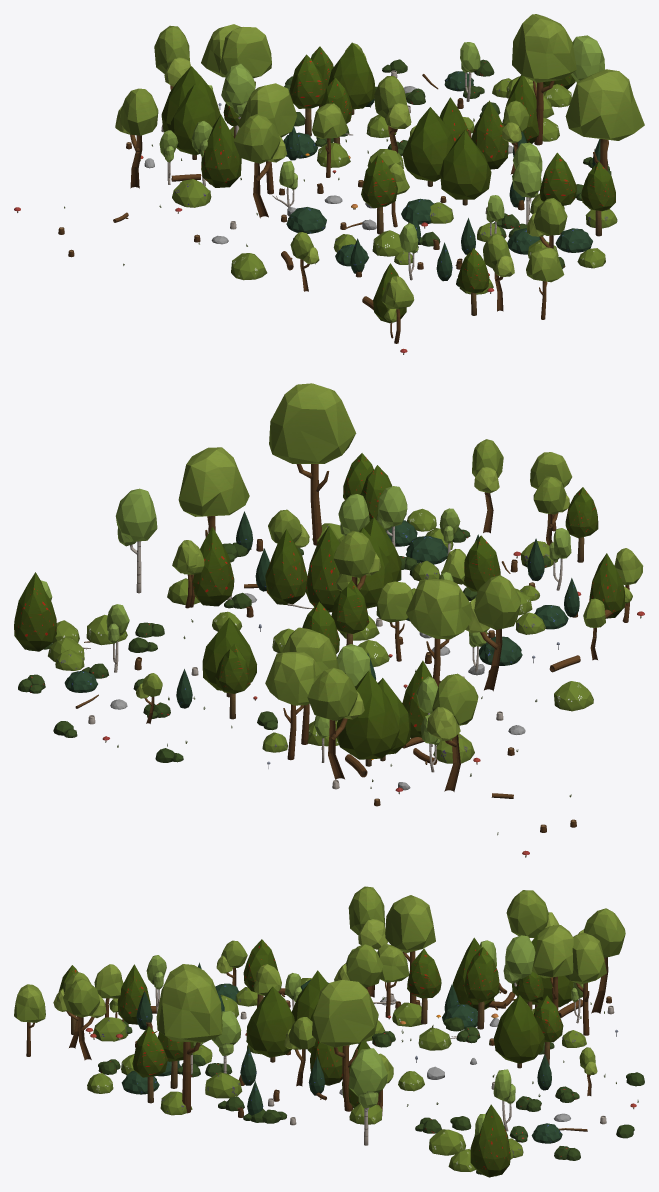
3 renders of one model, top to bottom at view 1: azimuth 30°, elevation 25°; view 2: azimuth 150°, elevation 25°; view 3: azimuth 270°, elevation 25°, orthographic. The views are drawn at different scales.
Parts seen in each view (by area): view 1: Beechtree3 - copy.035, Beechtree3 - copy.043, Hollytree2 - copy.026, Hollytree2 - copy.032, Beechtree2 - copy.034, Beechtree2 - copy.014, Beechtree3 - copy.015, Hollytree3 - copy.021, Beechtree3 - copy.036, Hollytree2 - copy.025, Hollytree2 - copy.019, Beechtree2 - copy.043 (+39 smaller); view 2: Beechtree3 - copy.035, Beechtree3 - copy.043, Beechtree3 - copy.015, Hollytree2 - copy.034, Beechtree2 - copy.014, Beechtree2 - copy.034, Beechtree2 - copy.043, Beechtree3 - copy.023, Hollytree3 - copy.041, Hollytree3 - copy.044, Hollytree3 - copy.034, BirchTree3 - copy.013 (+33 smaller); view 3: Beechtree3 - copy.035, Beechtree3 - copy.043, Beechtree3 - copy.015, Hollytree2 - copy.025, Hollytree2 - copy.026, Beechtree3 - copy.036, Hollytree3 - copy.041, Beechtree2 - copy.034, BirchTree3 - copy.013, Beechtree3 - copy.023, Beechtree2 - copy.043, Beechtree2 - copy.014 (+42 smaller).
Part boxes in pixels (x1,y1,x2,y2): Beechtree3 - copy.035: [565, 69, 644, 170]; Beechtree3 - copy.043: [512, 14, 576, 145]; Hollytree2 - copy.026: [440, 130, 491, 205]; Hollytree2 - copy.032: [402, 107, 454, 186]; Beechtree2 - copy.034: [233, 114, 287, 218]; Beechtree2 - copy.014: [115, 88, 158, 188]; Beechtree3 - copy.015: [238, 83, 297, 194]; Hollytree3 - copy.021: [201, 114, 241, 187]; Beechtree3 - copy.036: [219, 27, 271, 82]; Hollytree2 - copy.025: [328, 42, 375, 114]; Hollytree2 - copy.019: [168, 84, 217, 159]; Beechtree2 - copy.043: [154, 25, 190, 90]; Beechtree3 - copy.035: [269, 383, 356, 545]; Beechtree3 - copy.043: [178, 447, 249, 537]; Beechtree3 - copy.015: [406, 579, 471, 686]; Hollytree2 - copy.034: [336, 671, 399, 766]; Beechtree2 - copy.014: [427, 673, 478, 791]; Beechtree2 - copy.034: [465, 575, 520, 691]; Beechtree2 - copy.043: [307, 667, 364, 779]; Beechtree3 - copy.023: [265, 652, 322, 760]; Hollytree3 - copy.041: [14, 572, 56, 651]; Hollytree3 - copy.044: [265, 529, 307, 604]; Hollytree3 - copy.034: [192, 527, 234, 606]; BirchTree3 - copy.013: [115, 488, 157, 593]; Beechtree3 - copy.035: [156, 964, 222, 1113]; Beechtree3 - copy.043: [312, 980, 378, 1111]; Beechtree3 - copy.015: [385, 895, 435, 1004]; Hollytree2 - copy.025: [493, 995, 544, 1068]; Hollytree2 - copy.026: [246, 986, 294, 1062]; Beechtree3 - copy.036: [532, 925, 574, 1011]; Hollytree3 - copy.041: [470, 1104, 510, 1177]; Beechtree2 - copy.034: [348, 886, 387, 997]; BirchTree3 - copy.013: [348, 1048, 387, 1145]; Beechtree3 - copy.023: [565, 932, 606, 1035]; Beechtree2 - copy.043: [578, 908, 625, 1013]; Beechtree2 - copy.014: [506, 890, 559, 938].
Bounding box in the file's own units: 71.27 × 26.35 × 75.17.
34 materials, 34 textured.
